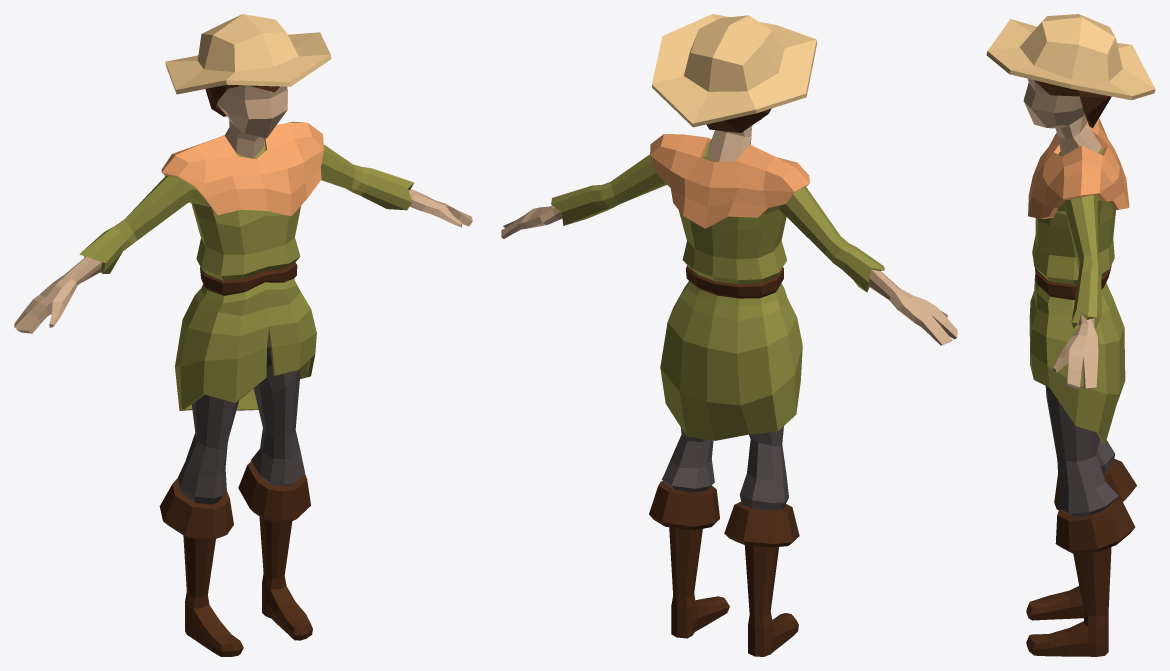
File: Peasant_Brolic.fbx
3 renders of one model, left to right at view 1: azimuth 30°, elevation 25°; view 2: azimuth 150°, elevation 25°; view 3: azimuth 270°, elevation 25°, orthographic.
Visible parts, largest first — view 1: Brolic; view 2: Brolic; view 3: Brolic.
Part boxes in pixels (box(x1,y1,x2,y2)): Brolic: box(14, 14, 472, 656); Brolic: box(501, 14, 957, 656); Brolic: box(986, 14, 1155, 656).
Size of the model in its own units: 80.69 by 104 by 25.86.
